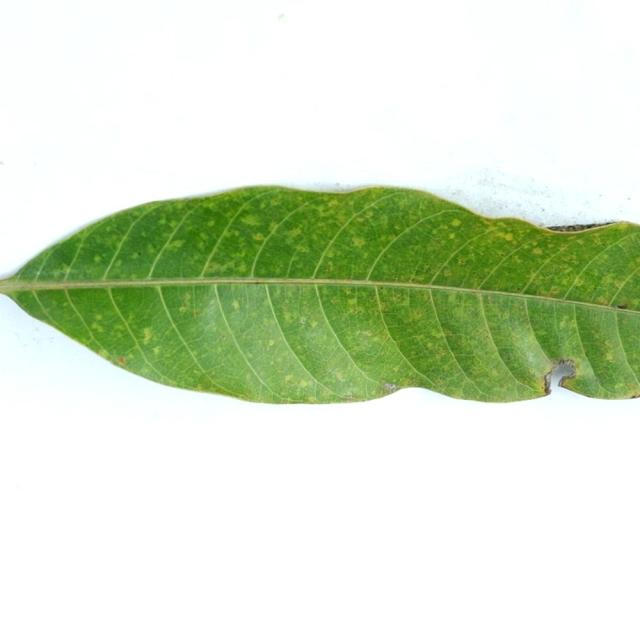Mango: (0, 187, 639, 403)
Powdery_Mildew: (204, 257, 232, 272), (242, 215, 261, 227), (353, 234, 368, 249), (167, 240, 185, 250), (141, 327, 153, 342), (360, 211, 375, 221), (51, 267, 66, 277), (90, 323, 104, 332), (289, 229, 301, 239), (411, 310, 424, 319), (268, 223, 279, 233), (252, 233, 265, 241), (335, 370, 345, 380), (151, 346, 162, 355), (347, 300, 358, 309), (99, 349, 110, 358), (450, 219, 462, 227), (597, 296, 609, 304), (360, 330, 373, 337), (231, 300, 240, 310), (503, 233, 514, 241), (195, 383, 207, 390), (605, 353, 614, 362), (283, 312, 292, 321), (324, 262, 333, 271), (309, 320, 319, 328), (93, 255, 103, 263), (284, 374, 294, 382), (549, 287, 559, 295), (113, 260, 123, 268), (61, 262, 71, 270), (568, 320, 577, 328), (300, 380, 310, 387), (532, 249, 543, 255), (94, 314, 103, 321), (206, 221, 215, 228), (426, 343, 435, 350), (537, 289, 546, 296), (306, 396, 316, 402), (448, 233, 456, 240), (179, 306, 187, 313), (268, 339, 275, 347), (393, 294, 401, 301), (501, 314, 509, 321), (443, 270, 452, 276), (442, 329, 451, 335), (482, 331, 489, 338), (458, 259, 466, 265), (439, 349, 447, 355), (575, 279, 583, 285), (345, 289, 352, 295), (194, 310, 200, 316), (409, 277, 416, 282), (370, 295, 375, 301), (500, 252, 505, 257)
